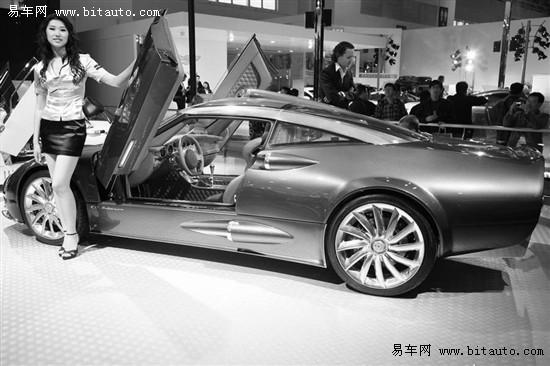car: (2, 6, 546, 298)
